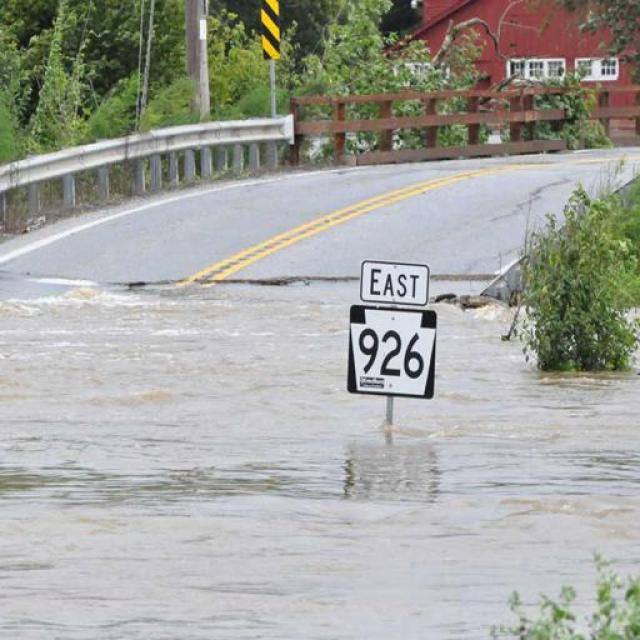puddle: (7, 278, 343, 640), (216, 388, 640, 640), (447, 290, 573, 536)
